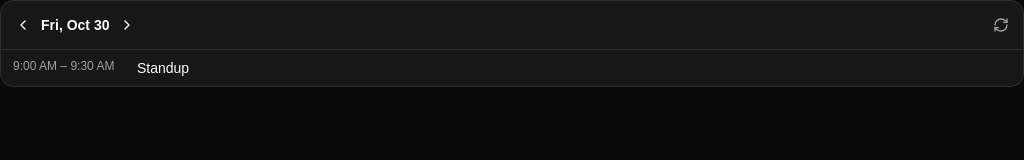
Test case: CalendarPane › steps to another day and back to today
The width and height of the screenshot is (1024, 160).
Expected: the link "Standup" is shown, [137, 60, 189, 76]
Click the button named "next day".
click(128, 25)  # box [114, 11, 142, 39]
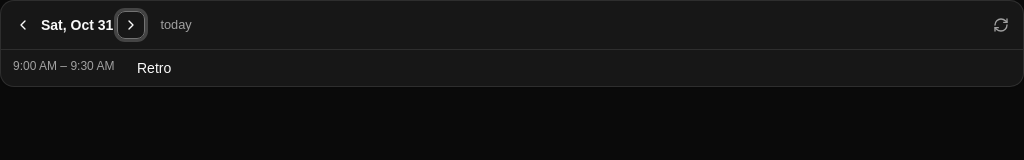
Expected: the link "Retro" is shown, [137, 60, 171, 76]
Click the button "today".
click(176, 25)  # box [149, 11, 203, 39]
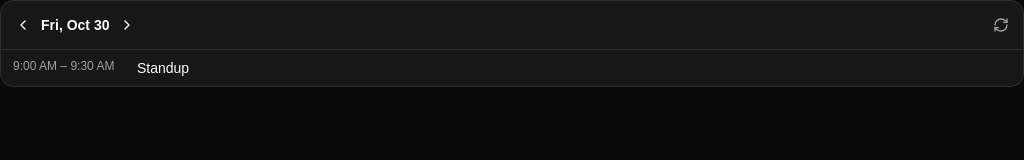
Expected: the link "Standup" is shown, [137, 60, 189, 76]
